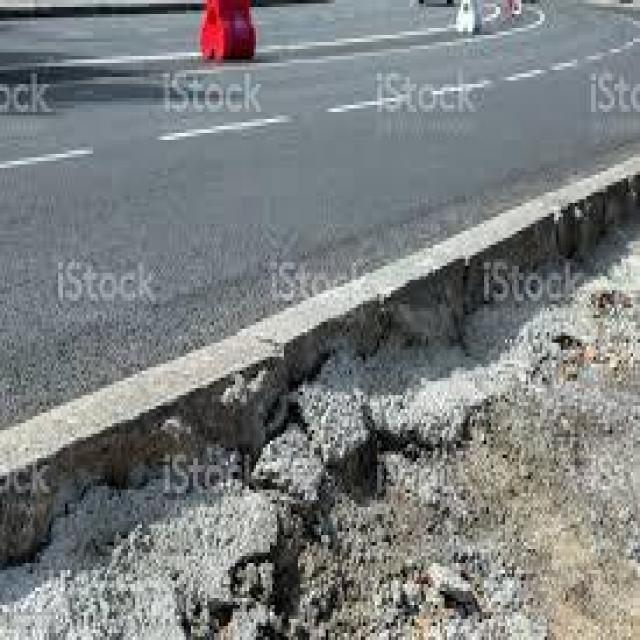curb: (1, 161, 640, 570)
